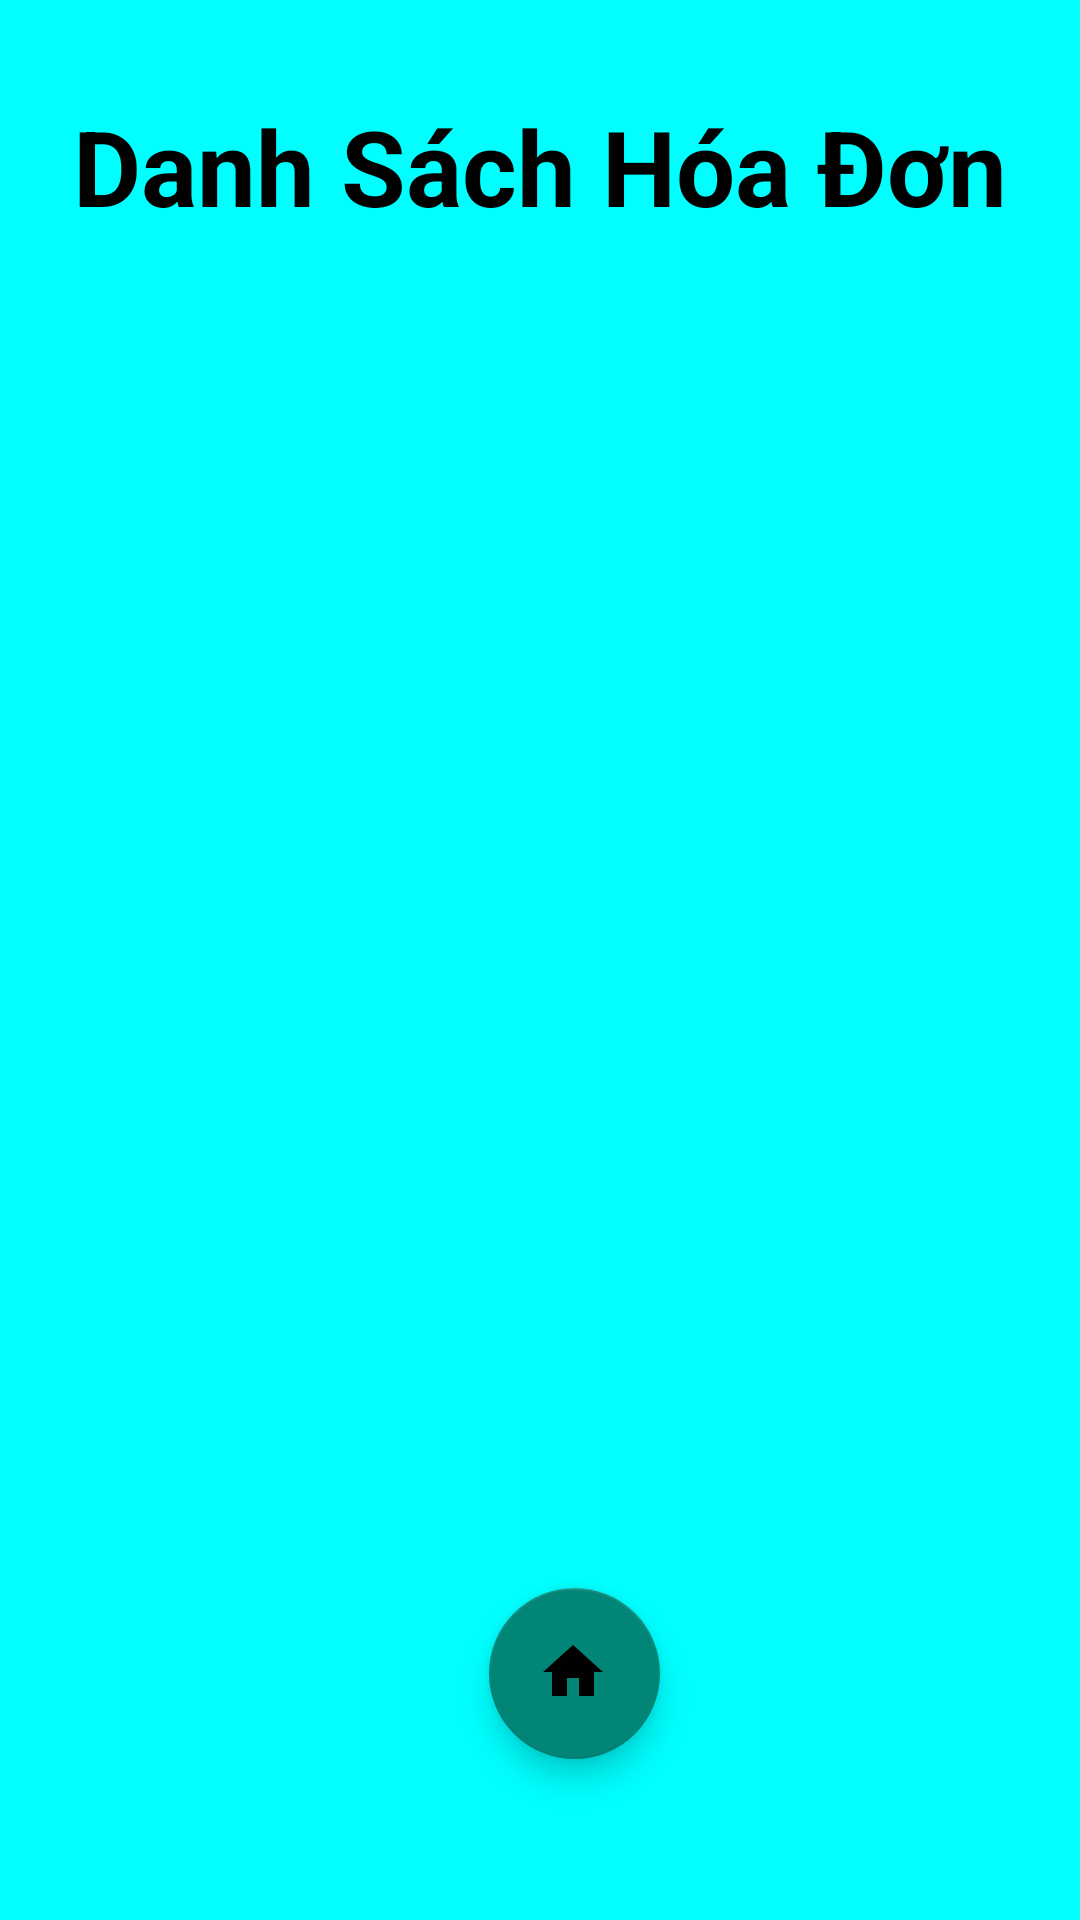

Point at icon controls on the screen. Image size 1080×1920, points as point (x, y).
home: point (574, 1673)
